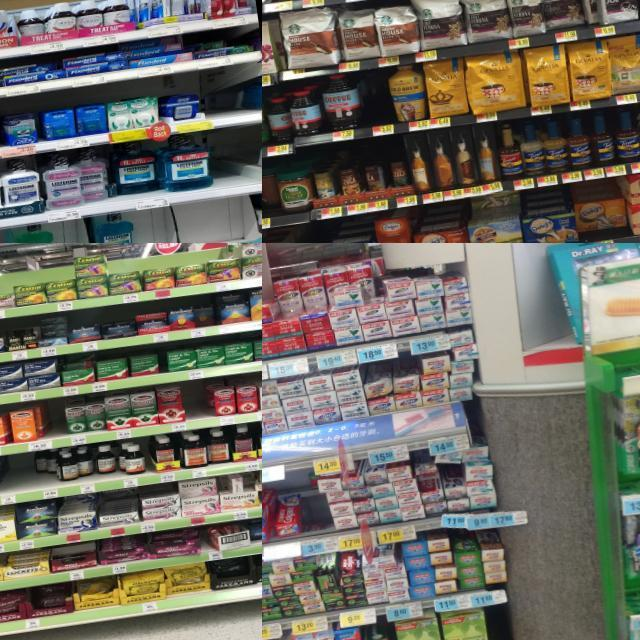empty: (208, 134, 246, 196), (0, 452, 39, 505), (305, 492, 334, 554), (370, 69, 396, 135), (182, 379, 210, 430), (202, 81, 230, 127), (47, 398, 69, 448), (297, 225, 327, 243)
